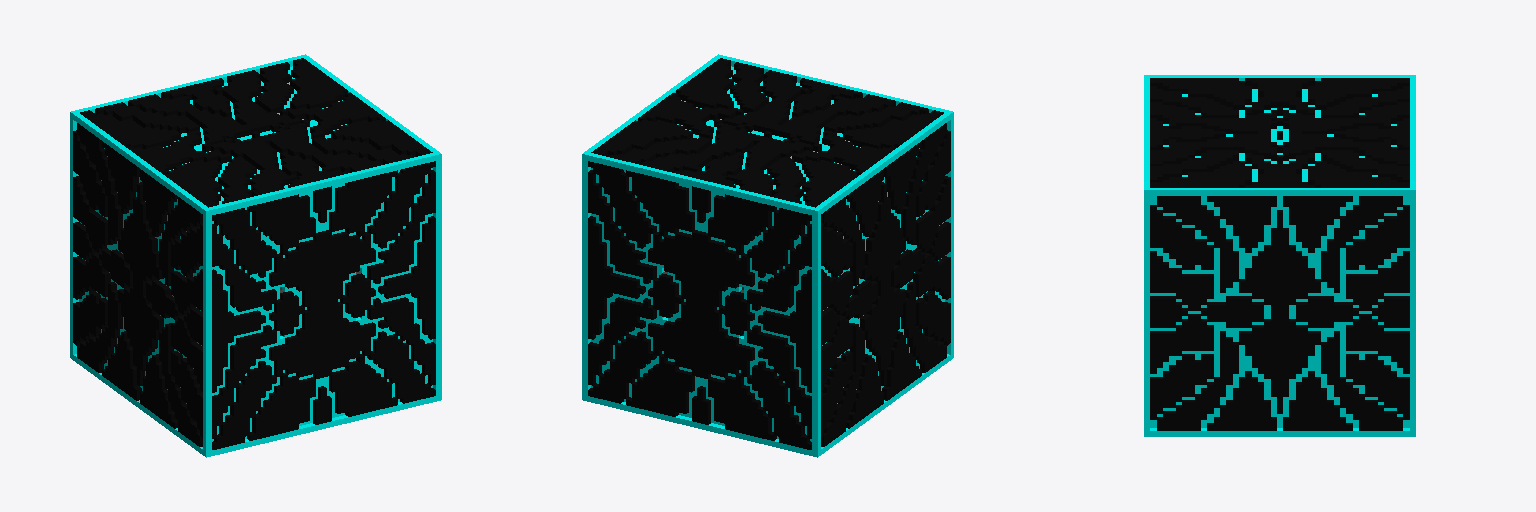
The picture shows the model from 3 angles: view 1: azimuth 30°, elevation 25°; view 2: azimuth 150°, elevation 25°; view 3: azimuth 270°, elevation 25°; orthographic projection.
Bounding box in the file's own units: 43 × 43 × 43.
1 materials, 1 textured.